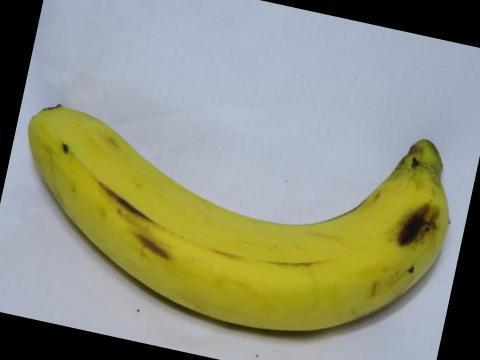freshripe: (20, 87, 458, 346)
